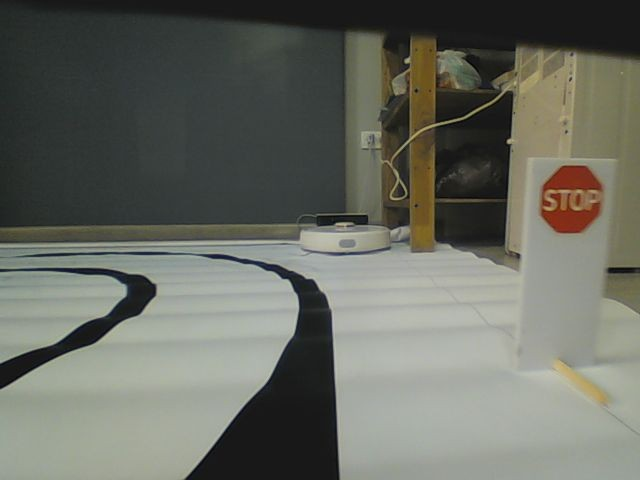Stop: (536, 163, 606, 236)
